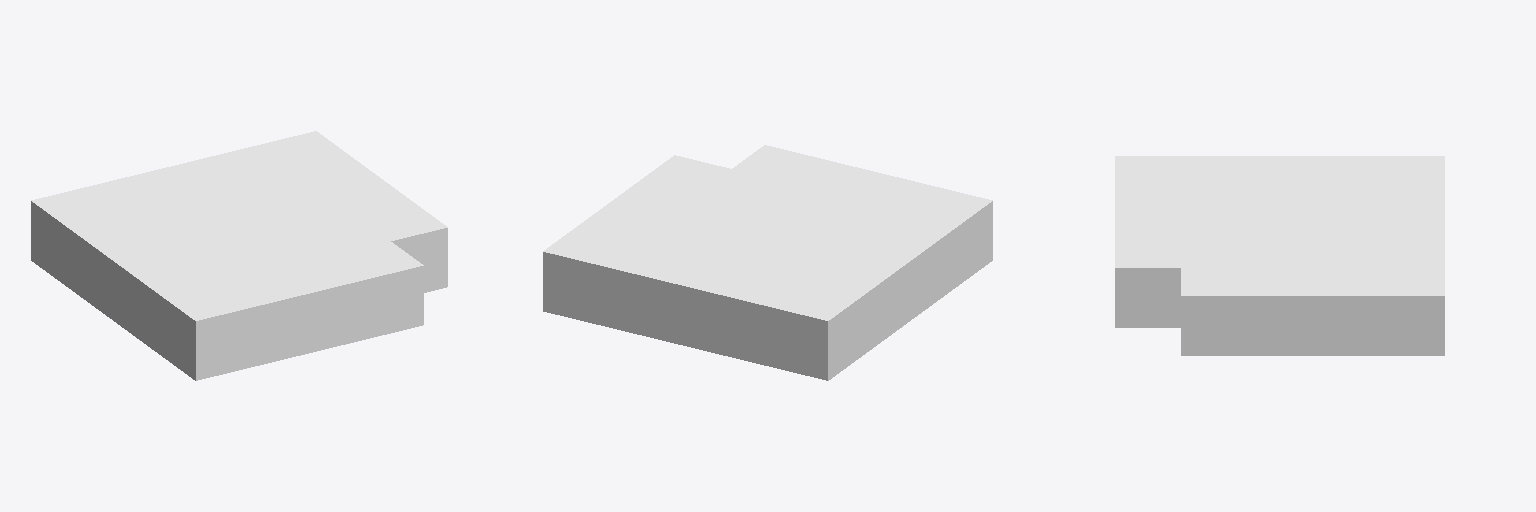
Rendered from planta.obj.
3 renders of one model, left to right at view 1: azimuth 30°, elevation 25°; view 2: azimuth 150°, elevation 25°; view 3: azimuth 270°, elevation 25°, orthographic.
Size of the model in its own units: 20 by 4 by 20.